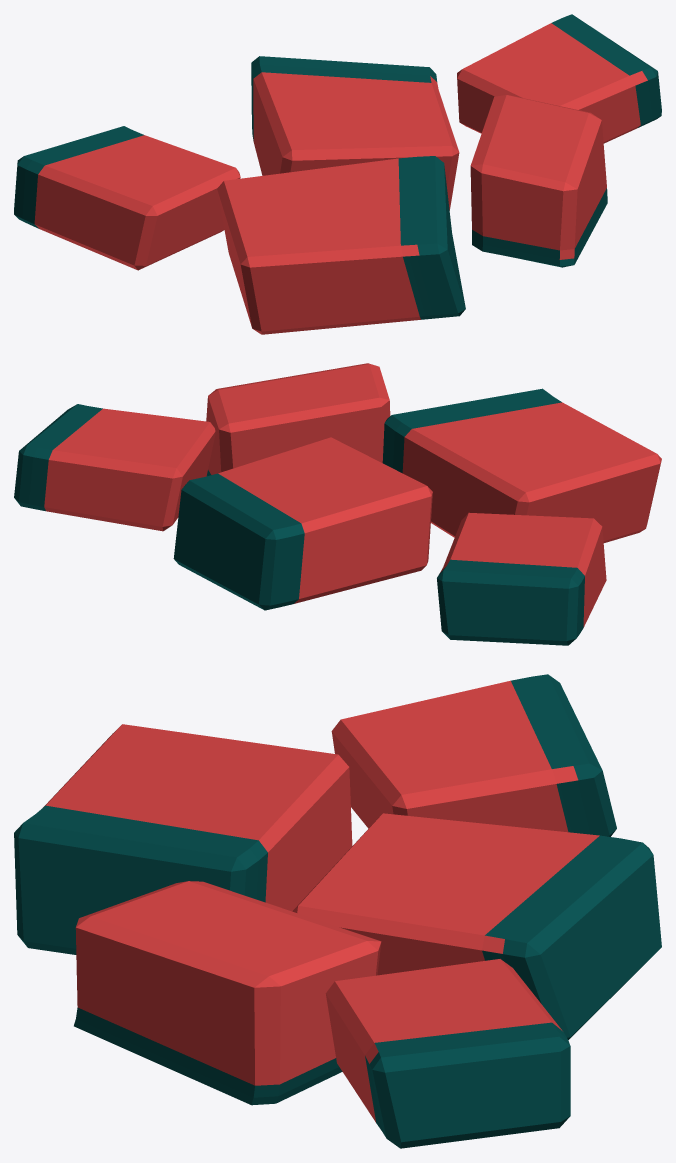
The model's file is Meat - Chopped.fbx.
The picture shows the model from 3 angles, top to bottom: view 1: azimuth 30°, elevation 25°; view 2: azimuth 150°, elevation 25°; view 3: azimuth 270°, elevation 25°; orthographic projection. The views are drawn at different scales.
Visible parts, largest first — view 1: Meat___Chopped; view 2: Meat___Chopped; view 3: Meat___Chopped.
Part boxes in pixels (<box>): Meat___Chopped: <box>14,14,661,334</box>; Meat___Chopped: <box>14,363,661,645</box>; Meat___Chopped: <box>14,674,661,1148</box>.
Bounding box in the file's own units: 38.41 × 6.09 × 26.66.
